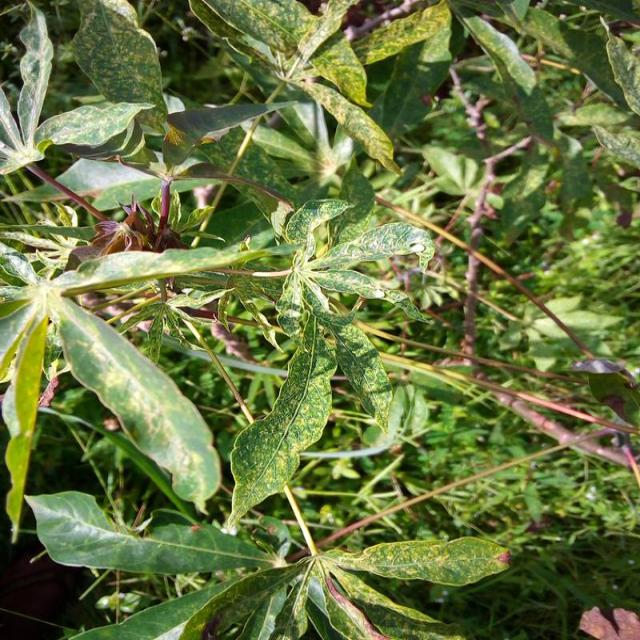cassava leaf: (48, 290, 222, 513), (224, 315, 338, 531)
